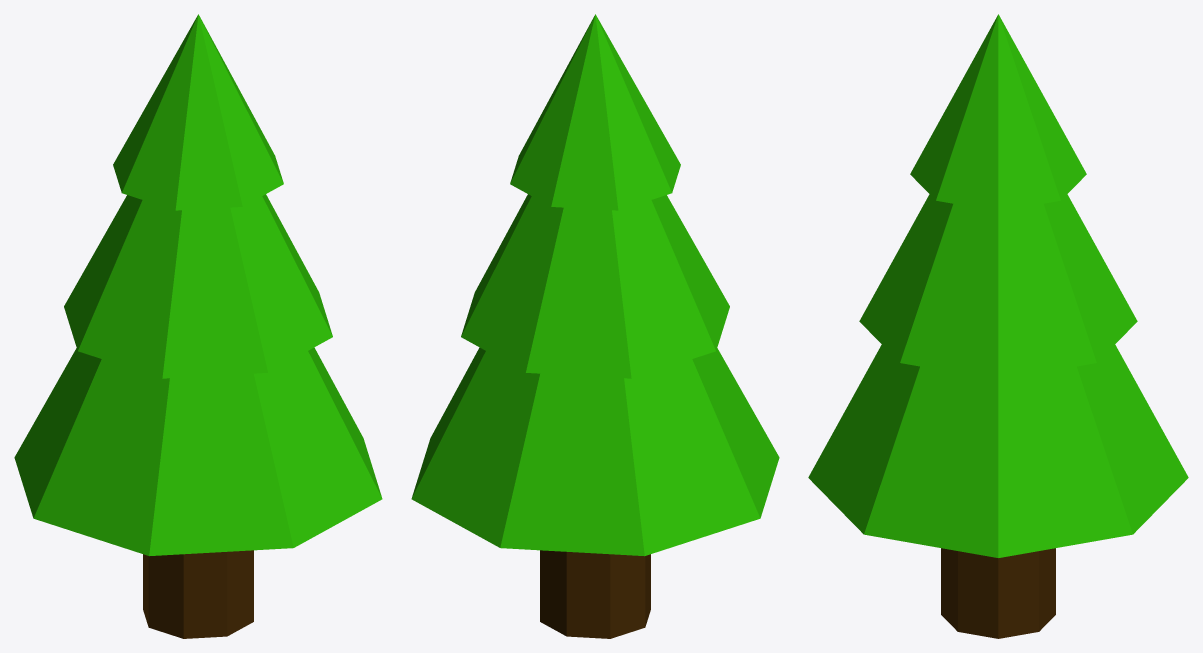
File: Tree.dae
The picture shows the model from 3 angles, left to right: view 1: azimuth 30°, elevation 25°; view 2: azimuth 150°, elevation 25°; view 3: azimuth 270°, elevation 25°; orthographic projection.
Parts seen in each view (by area): view 1: skpxYFiMH (×4); view 2: skpxYFiMH (×4); view 3: skpxYFiMH (×4).
Boxes of the visible parts, bbox=[...] form: skpxYFiMH (×4): bbox=[14, 14, 382, 638]; skpxYFiMH (×4): bbox=[411, 14, 779, 638]; skpxYFiMH (×4): bbox=[808, 14, 1188, 638].
Size of the model in its own units: 164 by 164 by 286.
